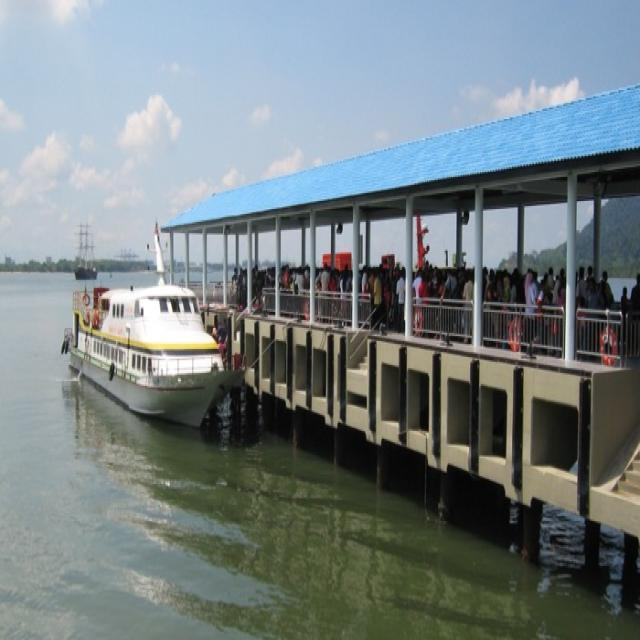houseboat: (59, 266, 220, 414)
